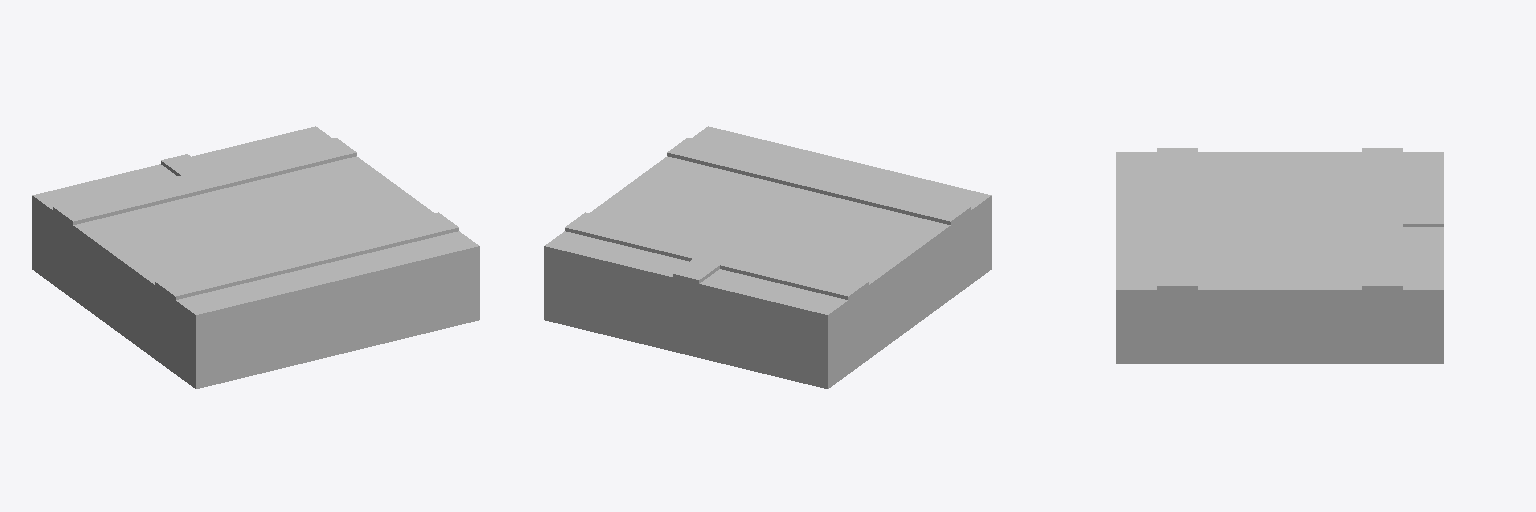
File: road-straight-house-1-low.obj
3 views of the same model, side by side, from view 1: azimuth 30°, elevation 25°; view 2: azimuth 150°, elevation 25°; view 3: azimuth 270°, elevation 25° (orthographic).
Visible parts, largest first — view 1: road-straight-house-1-low_Cube.044; view 2: road-straight-house-1-low_Cube.044; view 3: road-straight-house-1-low_Cube.044.
Part boxes in pixels (bbox=[...]): road-straight-house-1-low_Cube.044: bbox=[32, 126, 479, 388]; road-straight-house-1-low_Cube.044: bbox=[544, 126, 991, 388]; road-straight-house-1-low_Cube.044: bbox=[1116, 148, 1443, 363].
Size of the model in its own units: 8 by 2.1 by 8.